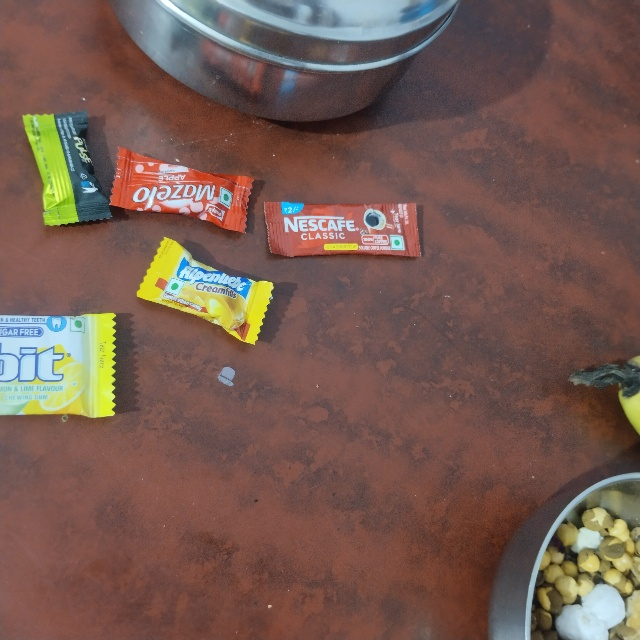Alpenlibe Creamfills: (132, 296, 199, 434)
Mazelo: (120, 147, 265, 208)
Nescafe Coffee: (260, 197, 427, 257)
Orbit: (3, 314, 117, 415)
Pulse: (21, 118, 88, 233)
